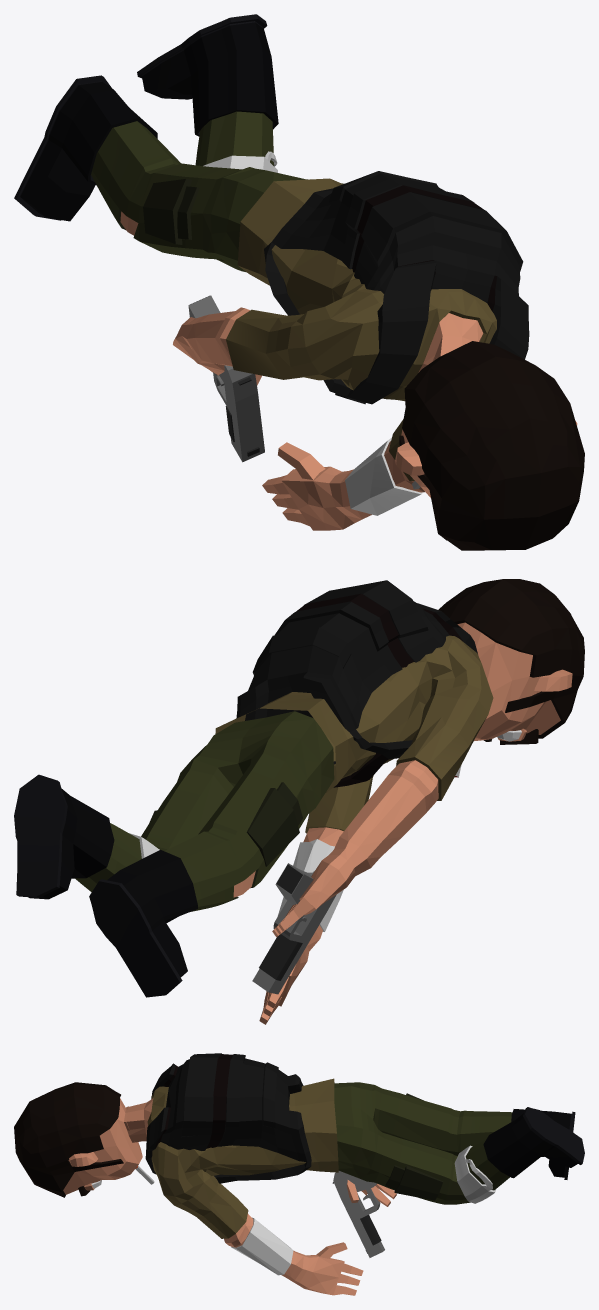
File: frame_0084.obj
3 views of the same model, one above another, from view 1: azimuth 30°, elevation 25°; view 2: azimuth 150°, elevation 25°; view 3: azimuth 270°, elevation 25° (orthographic). The views are drawn at different scales.
Parts seen in each view (by area): view 1: Body, Gun; view 2: Body, Gun; view 3: Body, Gun.
Part boxes in pixels (x1,y1,x2,y2): Body: (14,14,584,550); Gun: (188,295,264,462); Body: (14,579,584,1024); Gun: (252,863,336,994); Body: (14,1053,584,1295); Gun: (332,1171,384,1257).
Size of the model in its own units: 1.31 by 1.94 by 4.21.
